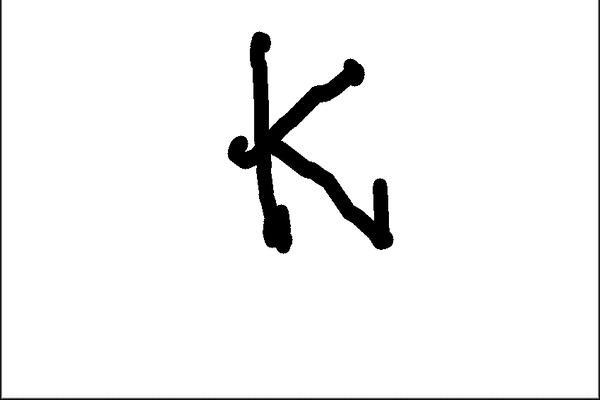K: (219, 26, 402, 262)
